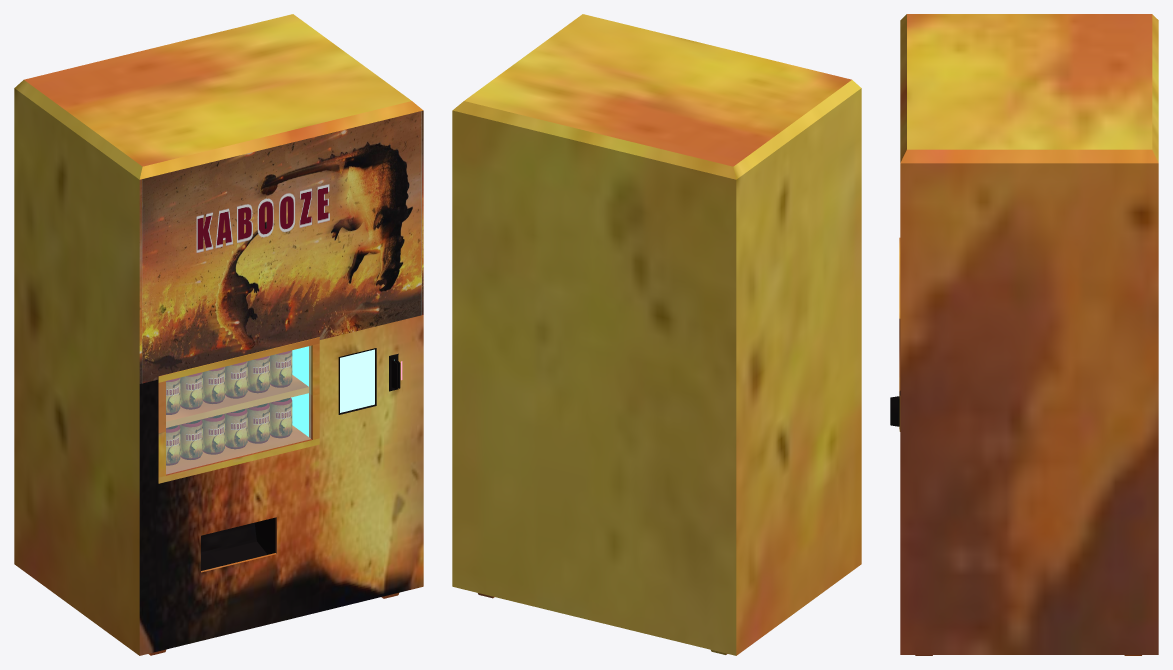
File: vendingmachine1.fbx
3 views of the same model, side by side, from view 1: azimuth 30°, elevation 25°; view 2: azimuth 150°, elevation 25°; view 3: azimuth 270°, elevation 25° (orthographic). The views are drawn at different scales.
Parts seen in each view (by area): view 1: vendingmachine, cans; view 2: vendingmachine; view 3: vendingmachine.
Part boxes in pixels (box(x1,y1,x2,y2)): vendingmachine: box(14, 14, 423, 655); cans: box(166, 350, 292, 465); vendingmachine: box(452, 14, 861, 655); vendingmachine: box(890, 14, 1158, 655).
Size of the model in its own units: 400 by 666 by 317.
